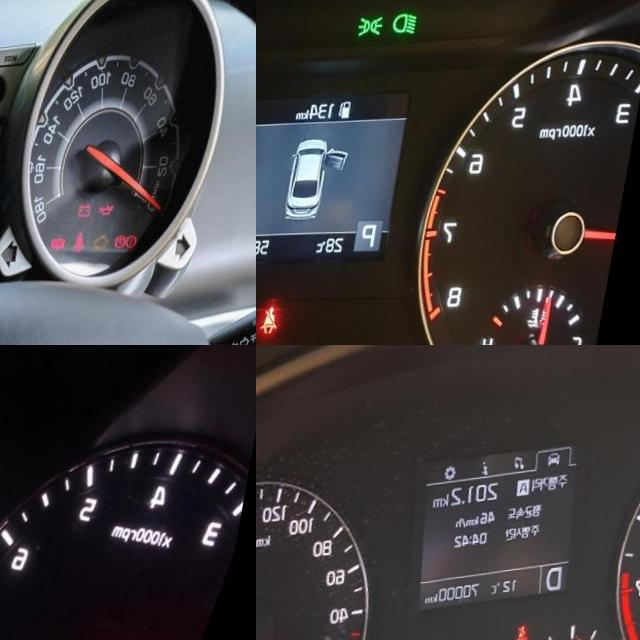Low beam: (398, 13, 428, 37)
SideLamp: (365, 16, 393, 38)
